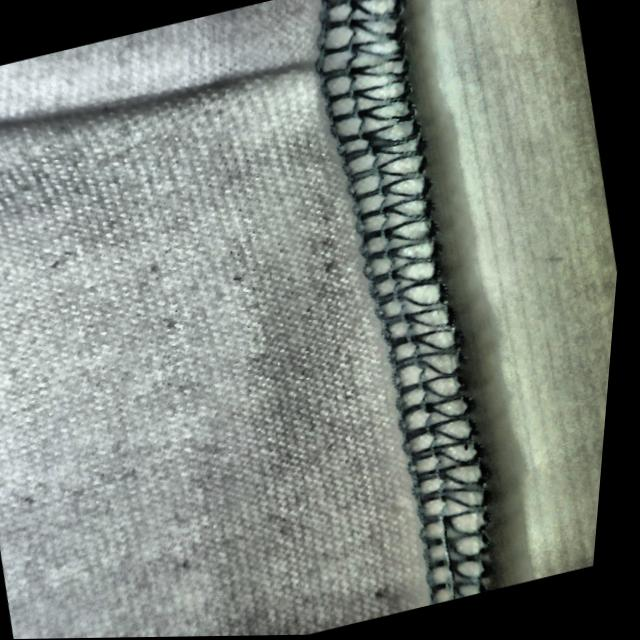seam: (85, 3, 429, 182)
